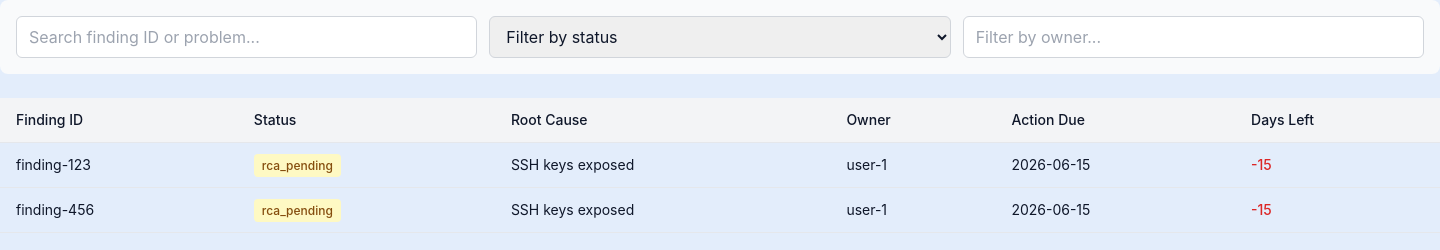
Test case: ActiveCapaList › should clear filters to show all CAPAs
// Apply a filter
Type "finding-123" into the field with placeholder "Search finding ID or problem...".
click(247, 37); type("finding-123")  # box [16,16,477,58]
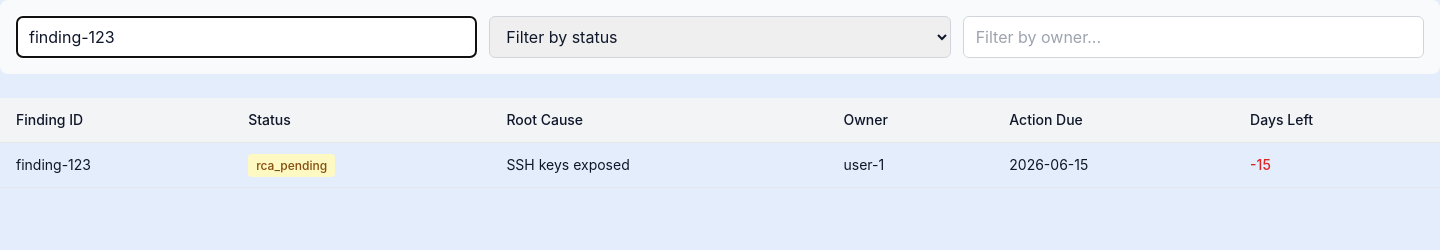
Expected: the text "finding-123" is shown, [0,142,232,188]
Now the text "finding-456" is gone
// Clear the filter
Clear the field with placeholder "Search finding ID or problem..." at (247, 37), box [16,16,477,58]
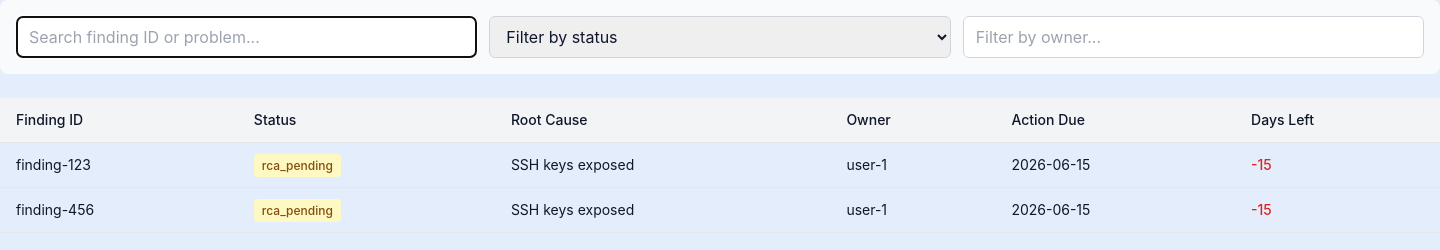
Expected: the text "finding-123" is shown, [0,142,238,188]
Now the text "finding-456" is shown, box [0,188,238,232]
